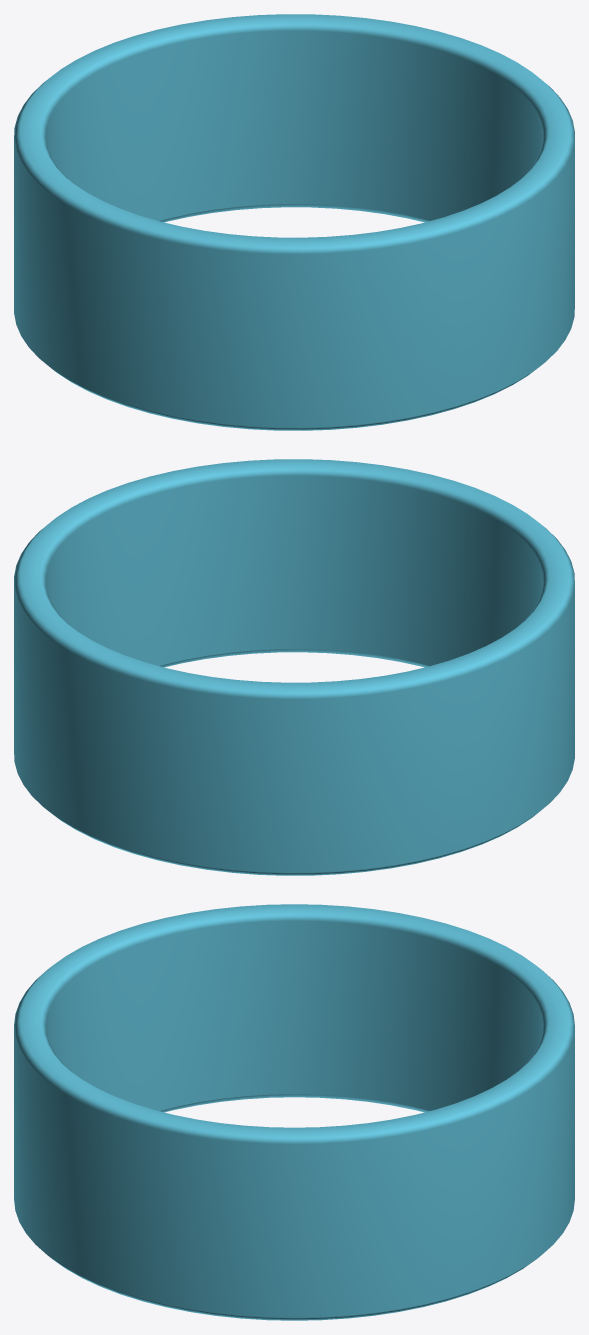
3 views of the same model, one above another, from view 1: azimuth 30°, elevation 25°; view 2: azimuth 150°, elevation 25°; view 3: azimuth 270°, elevation 25° (orthographic).
Visible parts, largest first — view 1: seal_body; view 2: seal_body; view 3: seal_body.
Boxes of the visible parts, x1,y1,x2,y2 form: seal_body: (14, 14, 574, 430); seal_body: (14, 459, 574, 875); seal_body: (14, 904, 574, 1320).
Size of the model in its own units: 0.0349 by 0.0127 by 0.0349.
